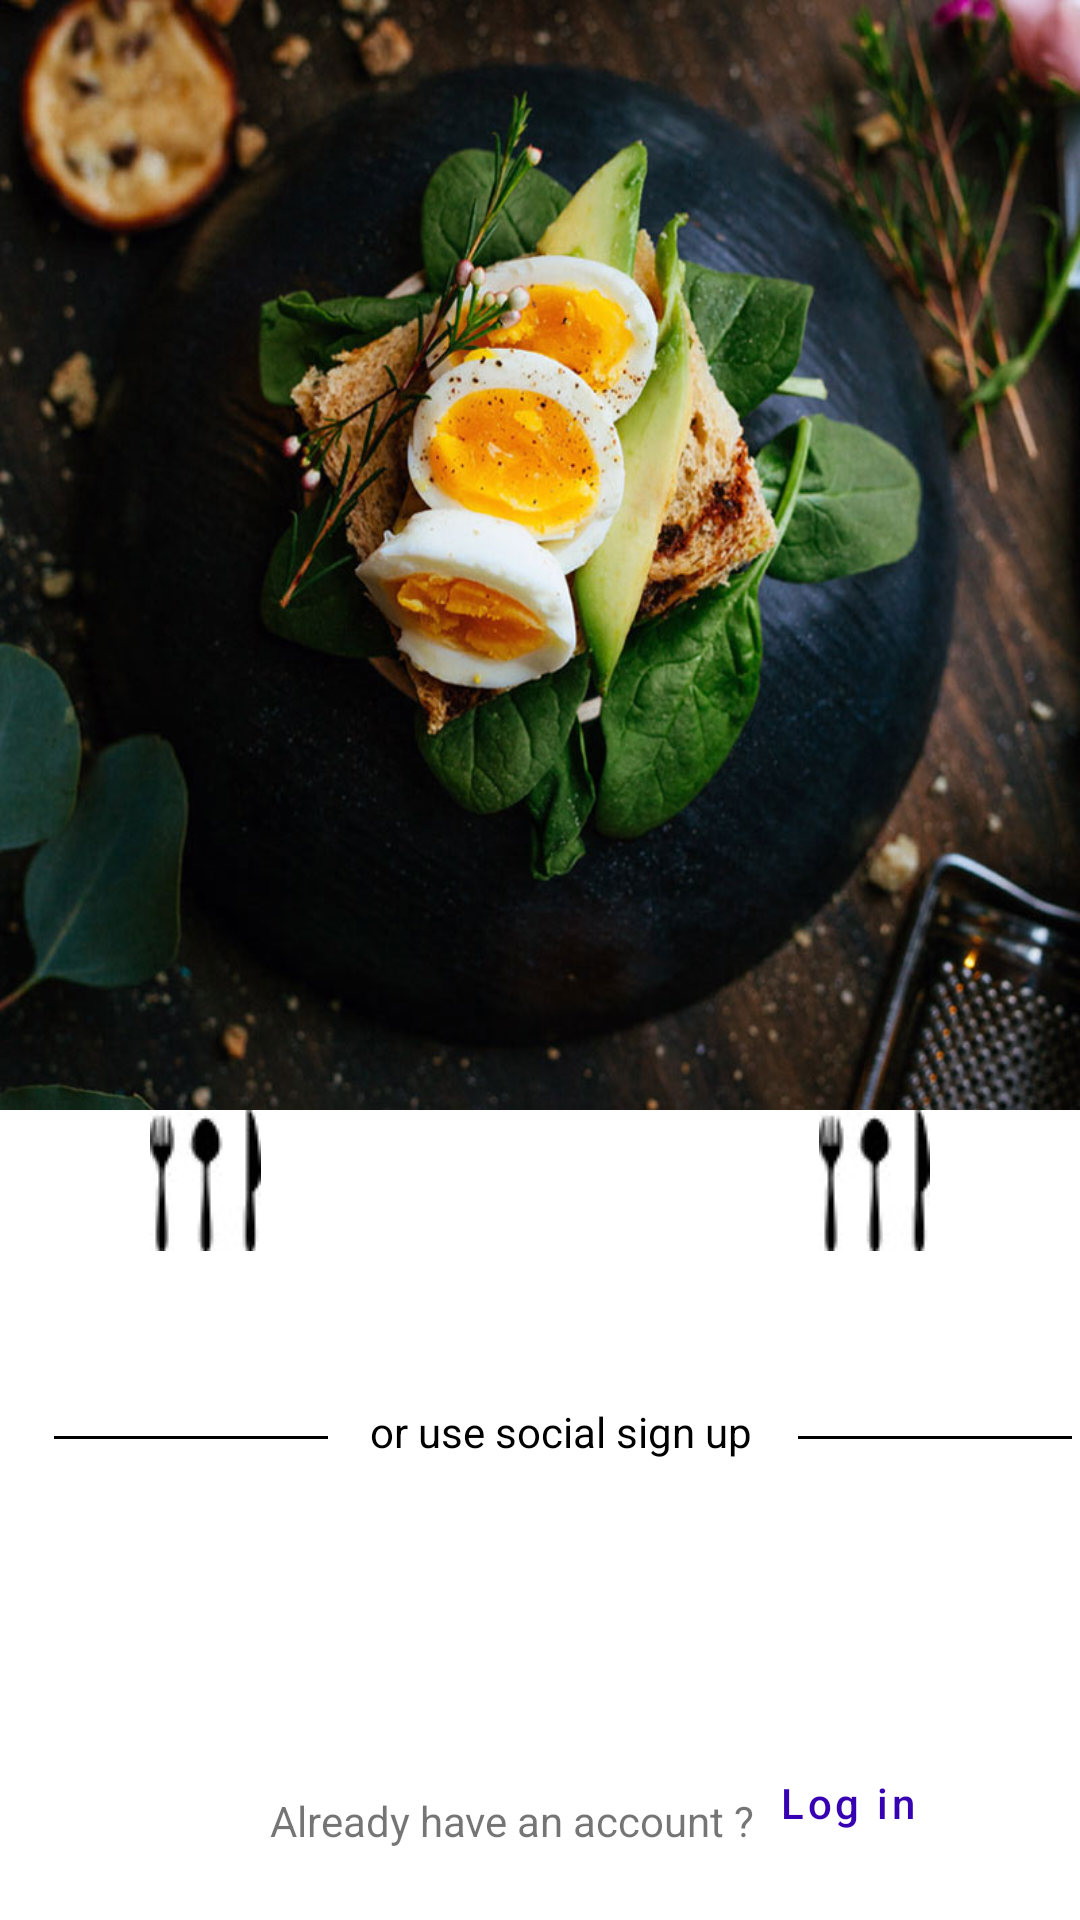

Named icons in this screenshot (1080 x 1920) and their bounding boxes, [left=x1, top=y1, right=x2, bottom=y2]:
forkspoon: [left=150, top=1115, right=223, bottom=1251], [left=819, top=1115, right=892, bottom=1251]
